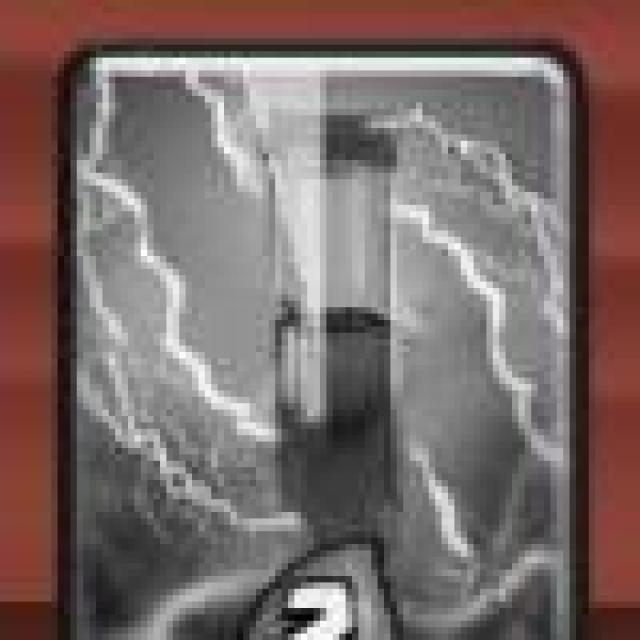Zap: (55, 43, 591, 640)
